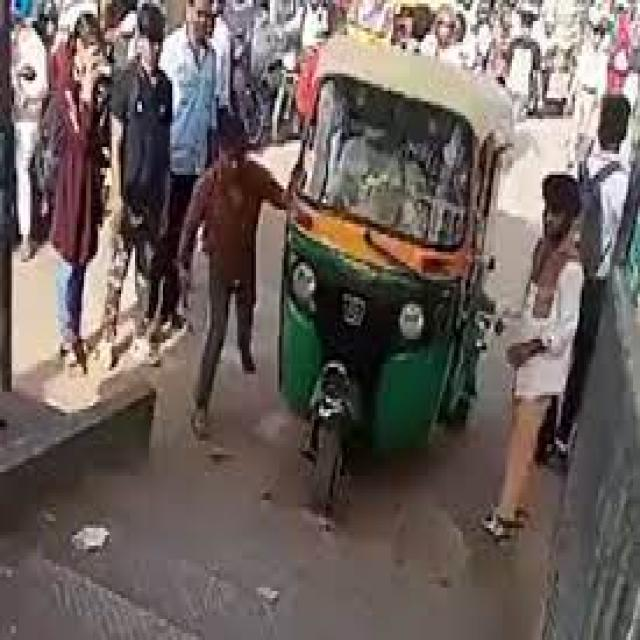person: (484, 175, 582, 539), (177, 115, 284, 423), (556, 94, 628, 455), (105, 3, 170, 339), (49, 14, 107, 371), (161, 0, 214, 325), (12, 24, 47, 259), (505, 0, 540, 115)
three wheeler: (282, 38, 510, 507)
